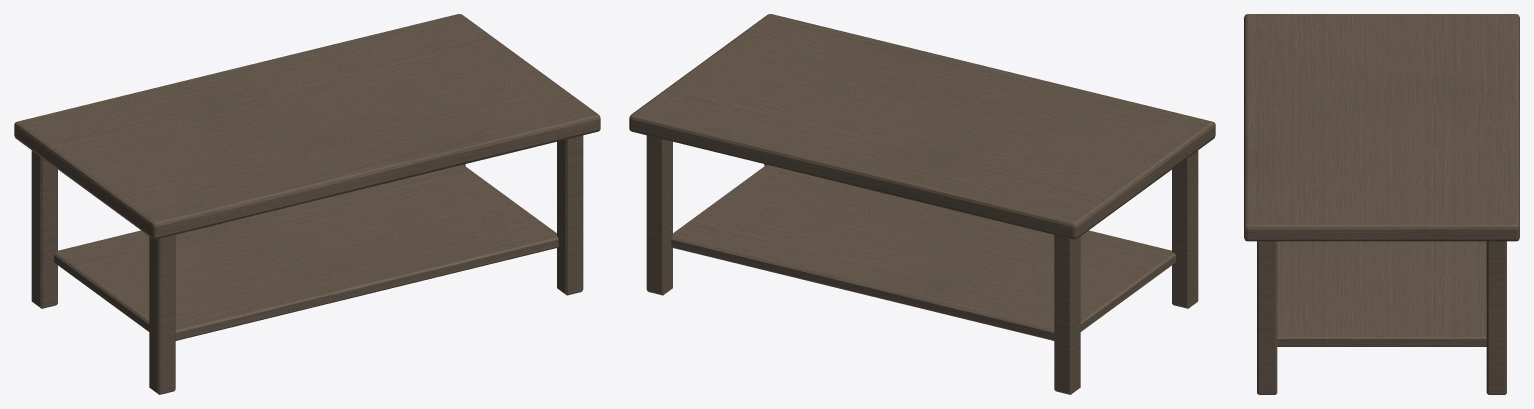
Rendered from coffee_table.fbx.
The picture shows the model from 3 angles, left to right: view 1: azimuth 30°, elevation 25°; view 2: azimuth 150°, elevation 25°; view 3: azimuth 270°, elevation 25°; orthographic projection. The views are drawn at different scales.
Visible parts, largest first — view 1: coffee_table; view 2: coffee_table; view 3: coffee_table.
Boxes of the visible parts, box(x1,y1,x2,y2) form: coffee_table: box(14, 14, 600, 394); coffee_table: box(629, 14, 1215, 394); coffee_table: box(1244, 14, 1519, 394).
Size of what is drawn, in the model's own units: 110 by 42 by 60.
Materials: 1 (1 with a texture image).
